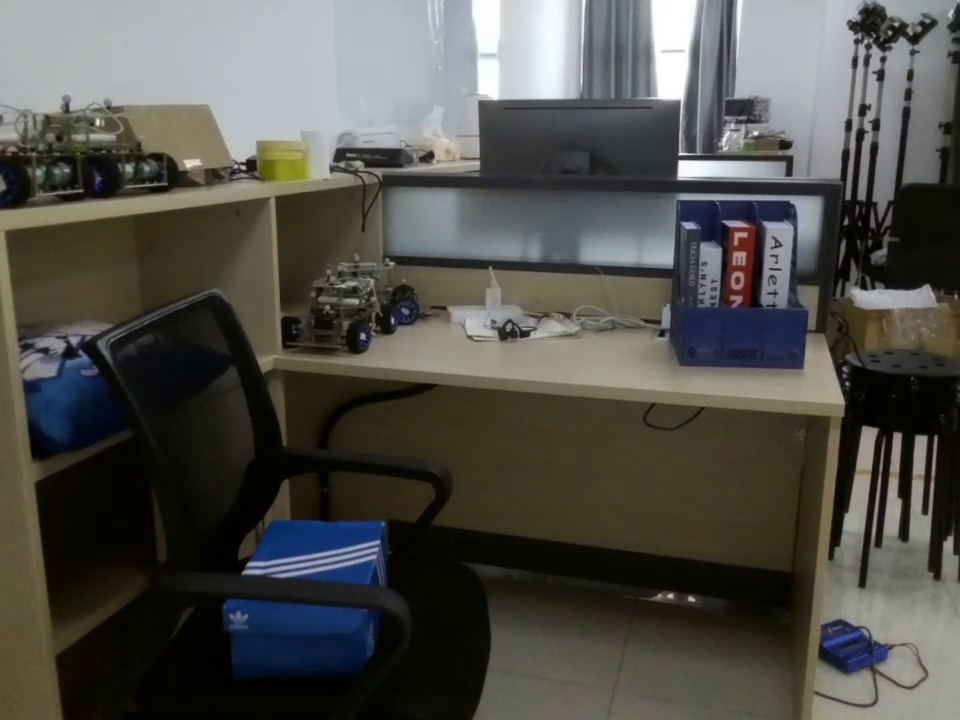files: (669, 196, 815, 377)
